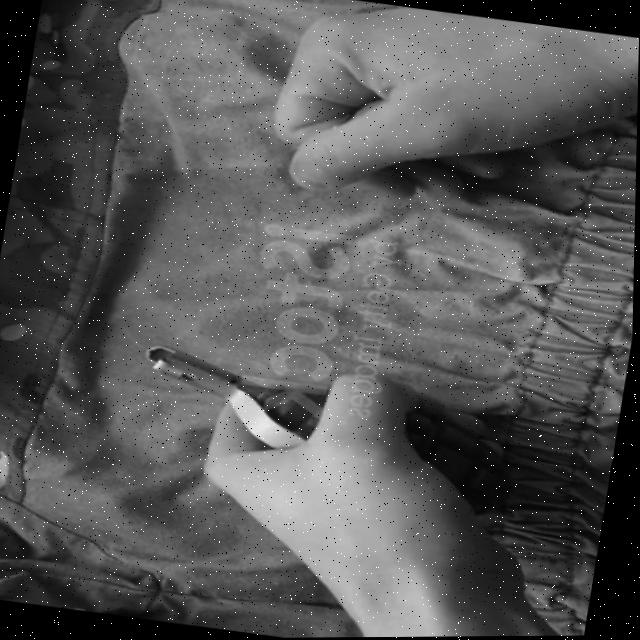grenade: (124, 342, 530, 523)
